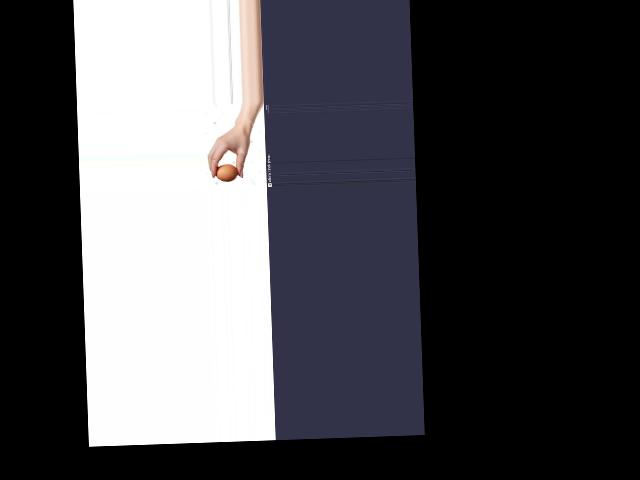egg: (215, 162, 238, 182)
